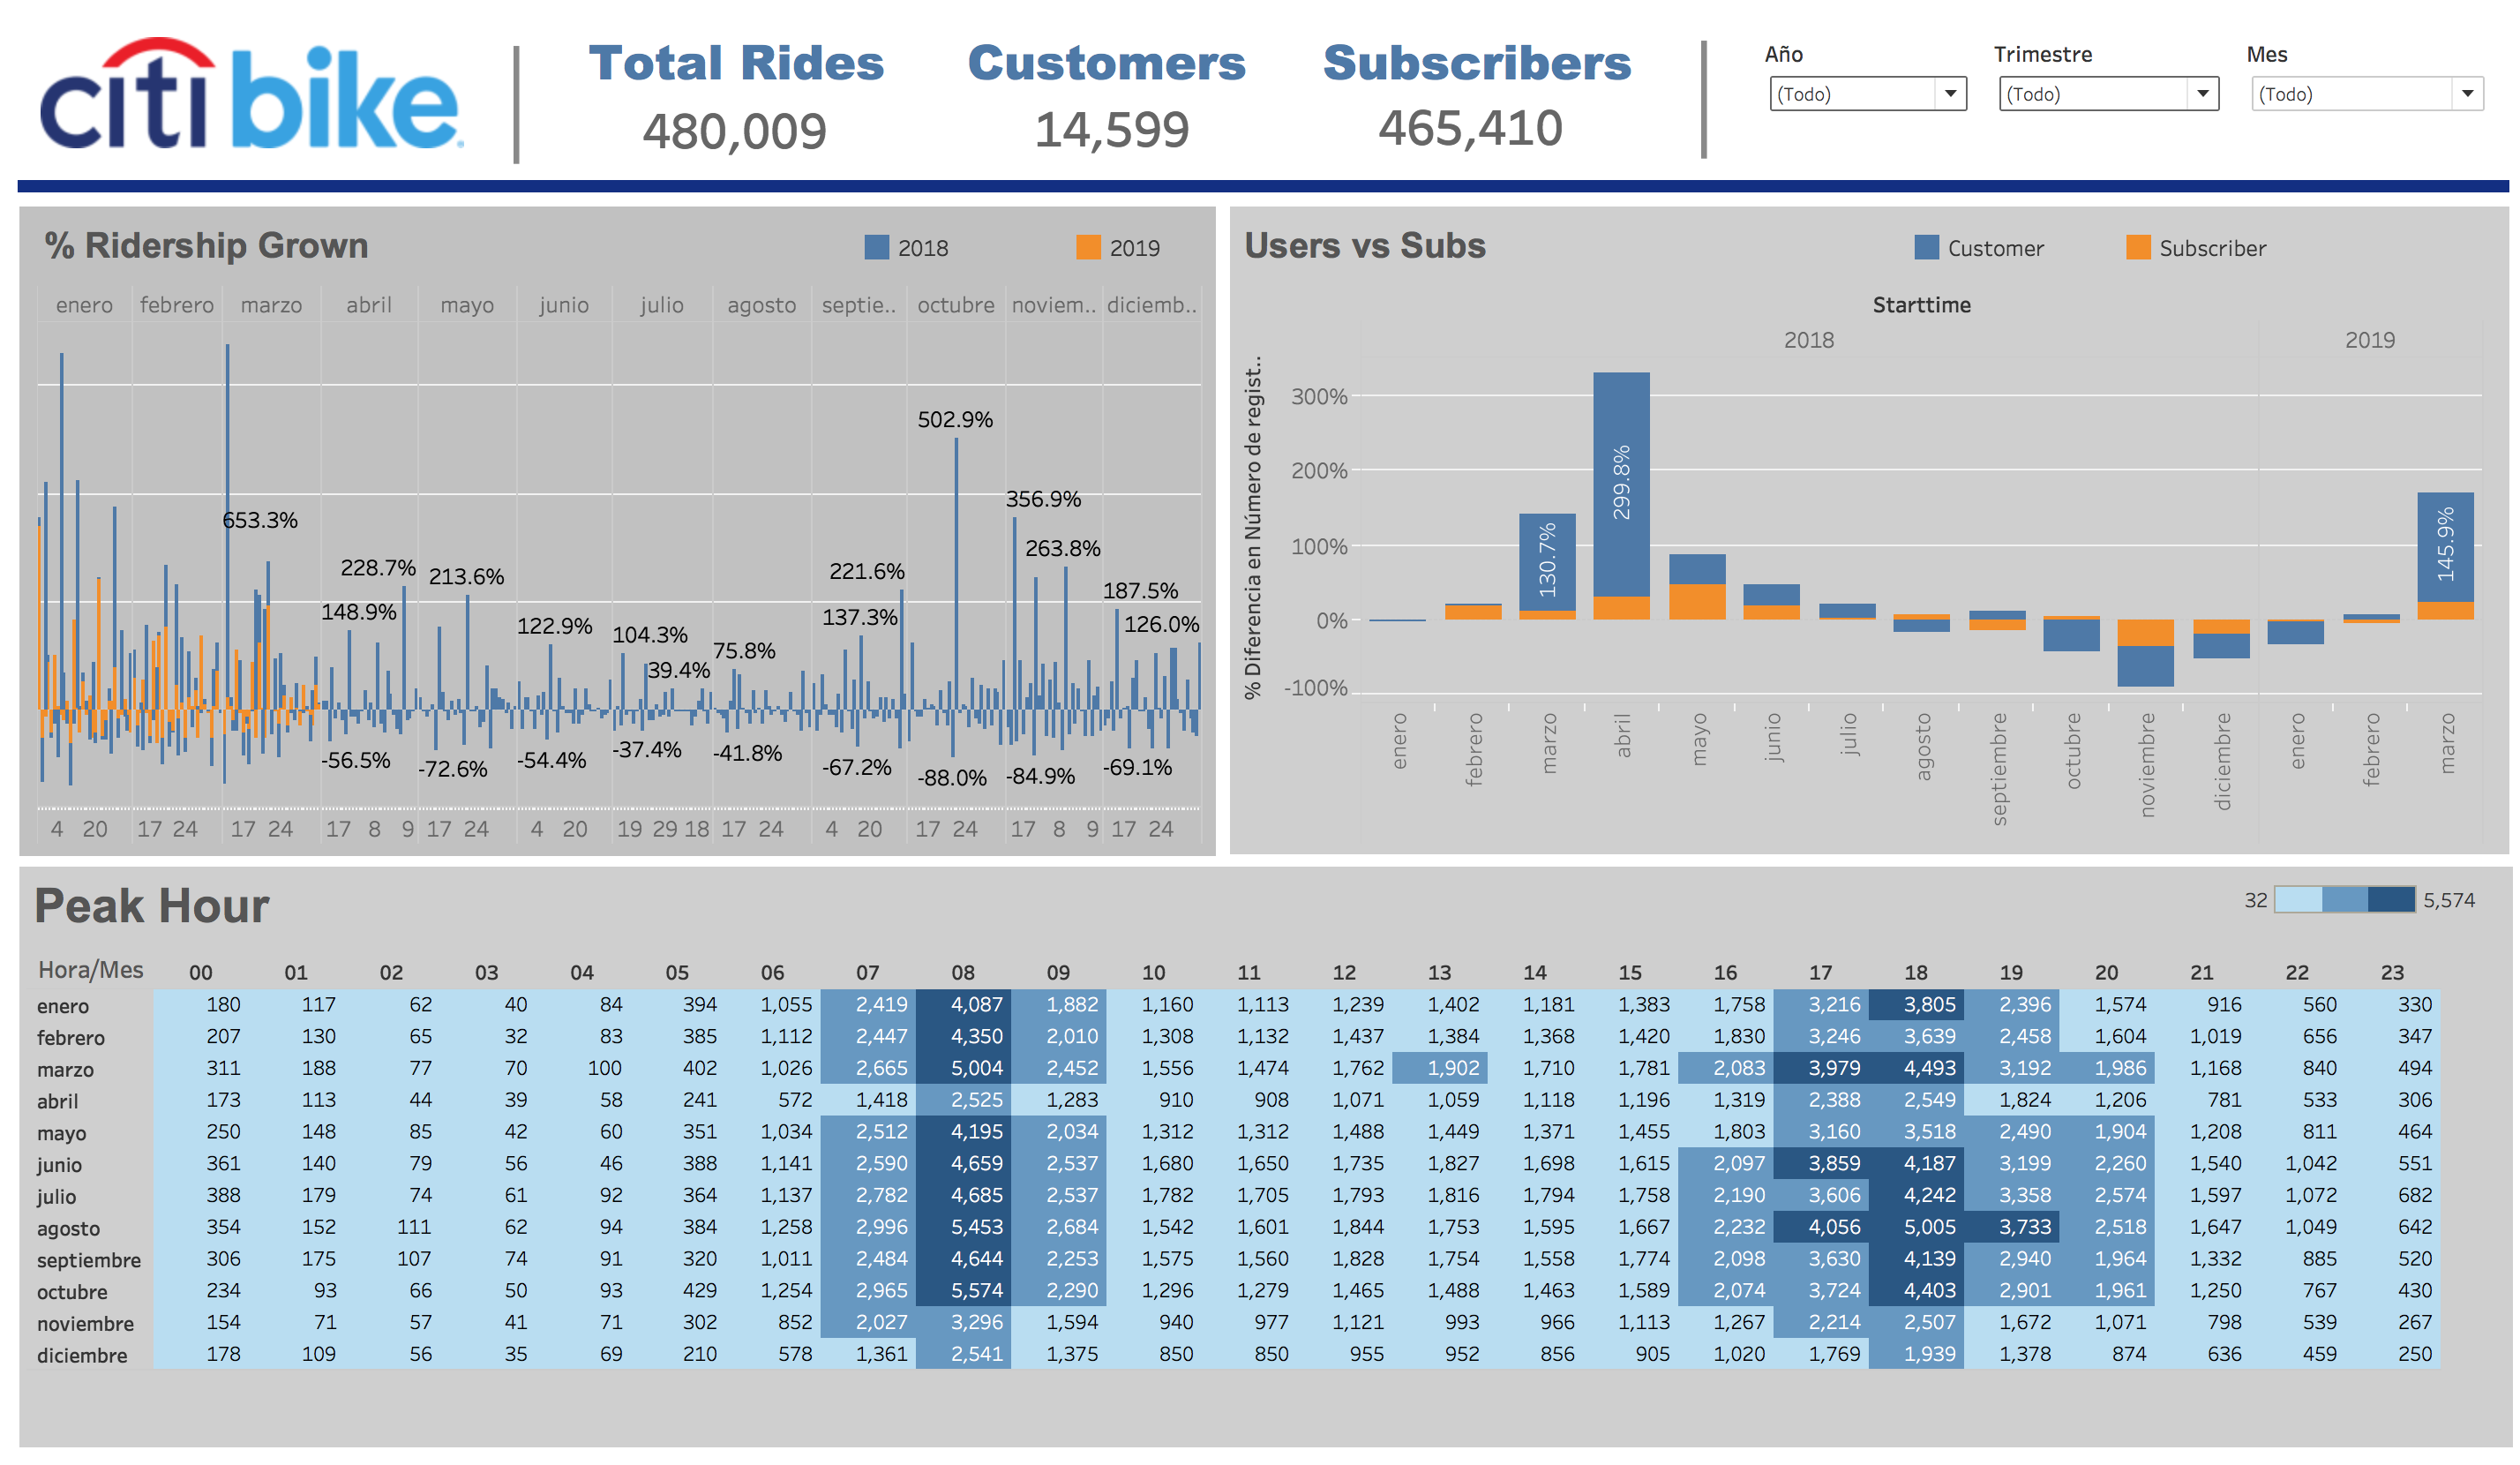

What the dashboard file says about the page in this screenshot:
{"tool":"tableau","page":{"name":"Dashboard 1-5","canvas":[1000,1000],"units":"permille","ordinal":0},"visuals":[{"type":"text","box":[665.3,4.8,21.5,115.1]},{"type":"text","box":[197.9,7.2,20.8,117.5]},{"type":"text","box":[234.7,16.8,134,57.6]},{"type":"text","box":[523.6,21.6,125.7,46.8]},{"type":"text","box":[383.3,27.6,114.6,36]},{"type":"image","param":"/Users/jahirmunguia/Dropbox/TECMC201811DATA/HW18/Images/CitiBike_Logo_p.svg","box":[20.8,28.8,175.7,75.5]},{"type":"filter","title":"Grown","param":"[federated.1l4bbzk0cbj91a12lvhcv0h2i7lq].[yr:starttime:ok]","box":[699.3,30,81.9,76.7]},{"type":"filter","title":"Grown","param":"[federated.1l4bbzk0cbj91a12lvhcv0h2i7lq].[qr:starttime:ok]","box":[789.6,30,91,76.7]},{"type":"filter","title":"Grown","param":"[federated.1l4bbzk0cbj91a12lvhcv0h2i7lq].[mn:starttime:ok]","box":[888.9,30,95.8,76.7]},{"type":"worksheet","title":"Subs","mark":"Automatic","box":[540.3,67.2,109.7,52.8]},{"type":"worksheet","title":"Customers","mark":"Automatic","box":[407.6,68.4,90.3,55.2]},{"type":"worksheet","title":"Total Rides","mark":"Automatic","box":[250.7,69.5,98.6,54]},{"type":"blank","box":[11.8,125.9,980.6,8.4]},{"type":"blank","box":[12.5,143.9,470.8,441.2]},{"type":"blank","box":[488.9,143.9,503.5,440.1]},{"type":"worksheet","title":"Grown","mark":"Automatic","rows":["Number of Records"],"cols":["starttime","starttime"],"box":[19.4,152.3,459,425.7]},{"type":"worksheet","title":"Subs vs Customers","mark":"Bar","rows":["Number of Records"],"cols":["starttime","starttime"],"box":[491.7,152.3,491,425.7]},{"type":"legend","title":"Grown","param":"[federated.1l4bbzk0cbj91a12lvhcv0h2i7lq].[yr:starttime:ok]","box":[343.1,159.5,183.3,25.2]},{"type":"legend","title":"Subs vs Customers","param":"[federated.1l4bbzk0cbj91a12lvhcv0h2i7lq].[none:usertype:nk]","box":[756.2,159.5,222.2,28.8]},{"type":"blank","box":[12.5,592.3,981.2,394.5]},{"type":"worksheet","title":"Peak Hour","mark":"Square","rows":["starttime"],"cols":["starttime"],"box":[15.3,595.9,974.3,383.7]},{"type":"legend","title":"Peak Hour","param":"[federated.1l4bbzk0cbj91a12lvhcv0h2i7lq].[sum:Number of Records:qk]","box":[885.4,600.7,97.2,45.6]},{"type":"text","box":[18.1,643.9,49.3,36]}]}

Visuals, with their boxes on the dashboard's canvas, which has no fixed pixel size, in thousandths of its width and height (x1, y1, x2, y2). These are canvas units, not pixel positions in the 2520x1465 screenshot, which may show the page scaled, cropped or inside an application window:
text: {"left": 665, "top": 5, "right": 687, "bottom": 120}
text: {"left": 198, "top": 7, "right": 219, "bottom": 125}
text: {"left": 235, "top": 17, "right": 369, "bottom": 74}
text: {"left": 524, "top": 22, "right": 649, "bottom": 68}
text: {"left": 383, "top": 28, "right": 498, "bottom": 64}
image: {"left": 21, "top": 29, "right": 196, "bottom": 104}
"Grown" filter: {"left": 699, "top": 30, "right": 781, "bottom": 107}
"Grown" filter: {"left": 790, "top": 30, "right": 881, "bottom": 107}
"Grown" filter: {"left": 889, "top": 30, "right": 985, "bottom": 107}
"Subs" worksheet: {"left": 540, "top": 67, "right": 650, "bottom": 120}
"Customers" worksheet: {"left": 408, "top": 68, "right": 498, "bottom": 124}
"Total Rides" worksheet: {"left": 251, "top": 70, "right": 349, "bottom": 124}
blank: {"left": 12, "top": 126, "right": 992, "bottom": 134}
blank: {"left": 12, "top": 144, "right": 483, "bottom": 585}
blank: {"left": 489, "top": 144, "right": 992, "bottom": 584}
"Grown" worksheet: {"left": 19, "top": 152, "right": 478, "bottom": 578}
"Subs vs Customers" worksheet (Bar marks): {"left": 492, "top": 152, "right": 983, "bottom": 578}
"Grown" legend: {"left": 343, "top": 160, "right": 526, "bottom": 185}
"Subs vs Customers" legend: {"left": 756, "top": 160, "right": 978, "bottom": 188}
blank: {"left": 12, "top": 592, "right": 994, "bottom": 987}
"Peak Hour" worksheet (Square marks): {"left": 15, "top": 596, "right": 990, "bottom": 980}
"Peak Hour" legend: {"left": 885, "top": 601, "right": 983, "bottom": 646}
text: {"left": 18, "top": 644, "right": 67, "bottom": 680}
